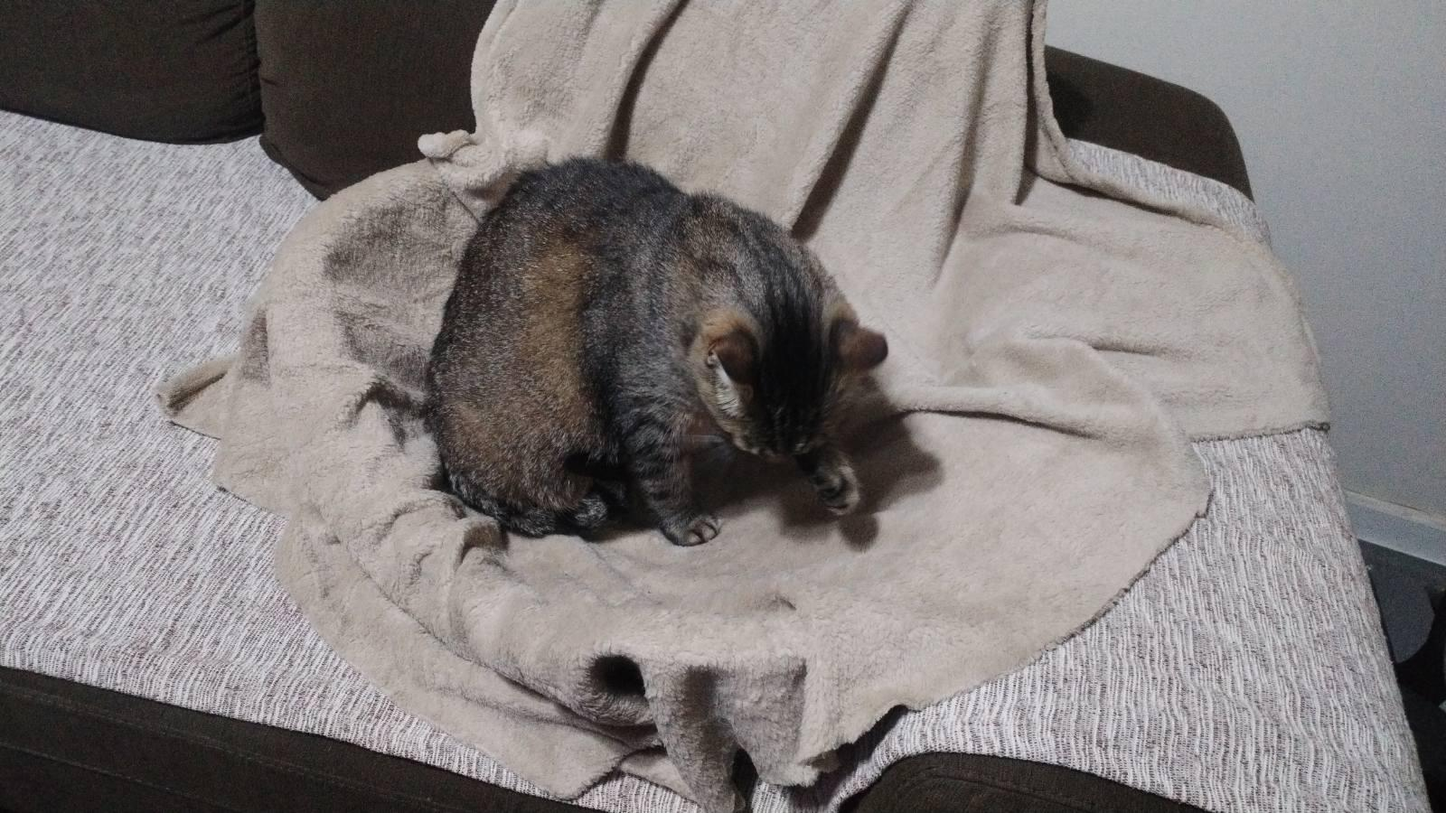macka: (424, 159, 893, 545)
